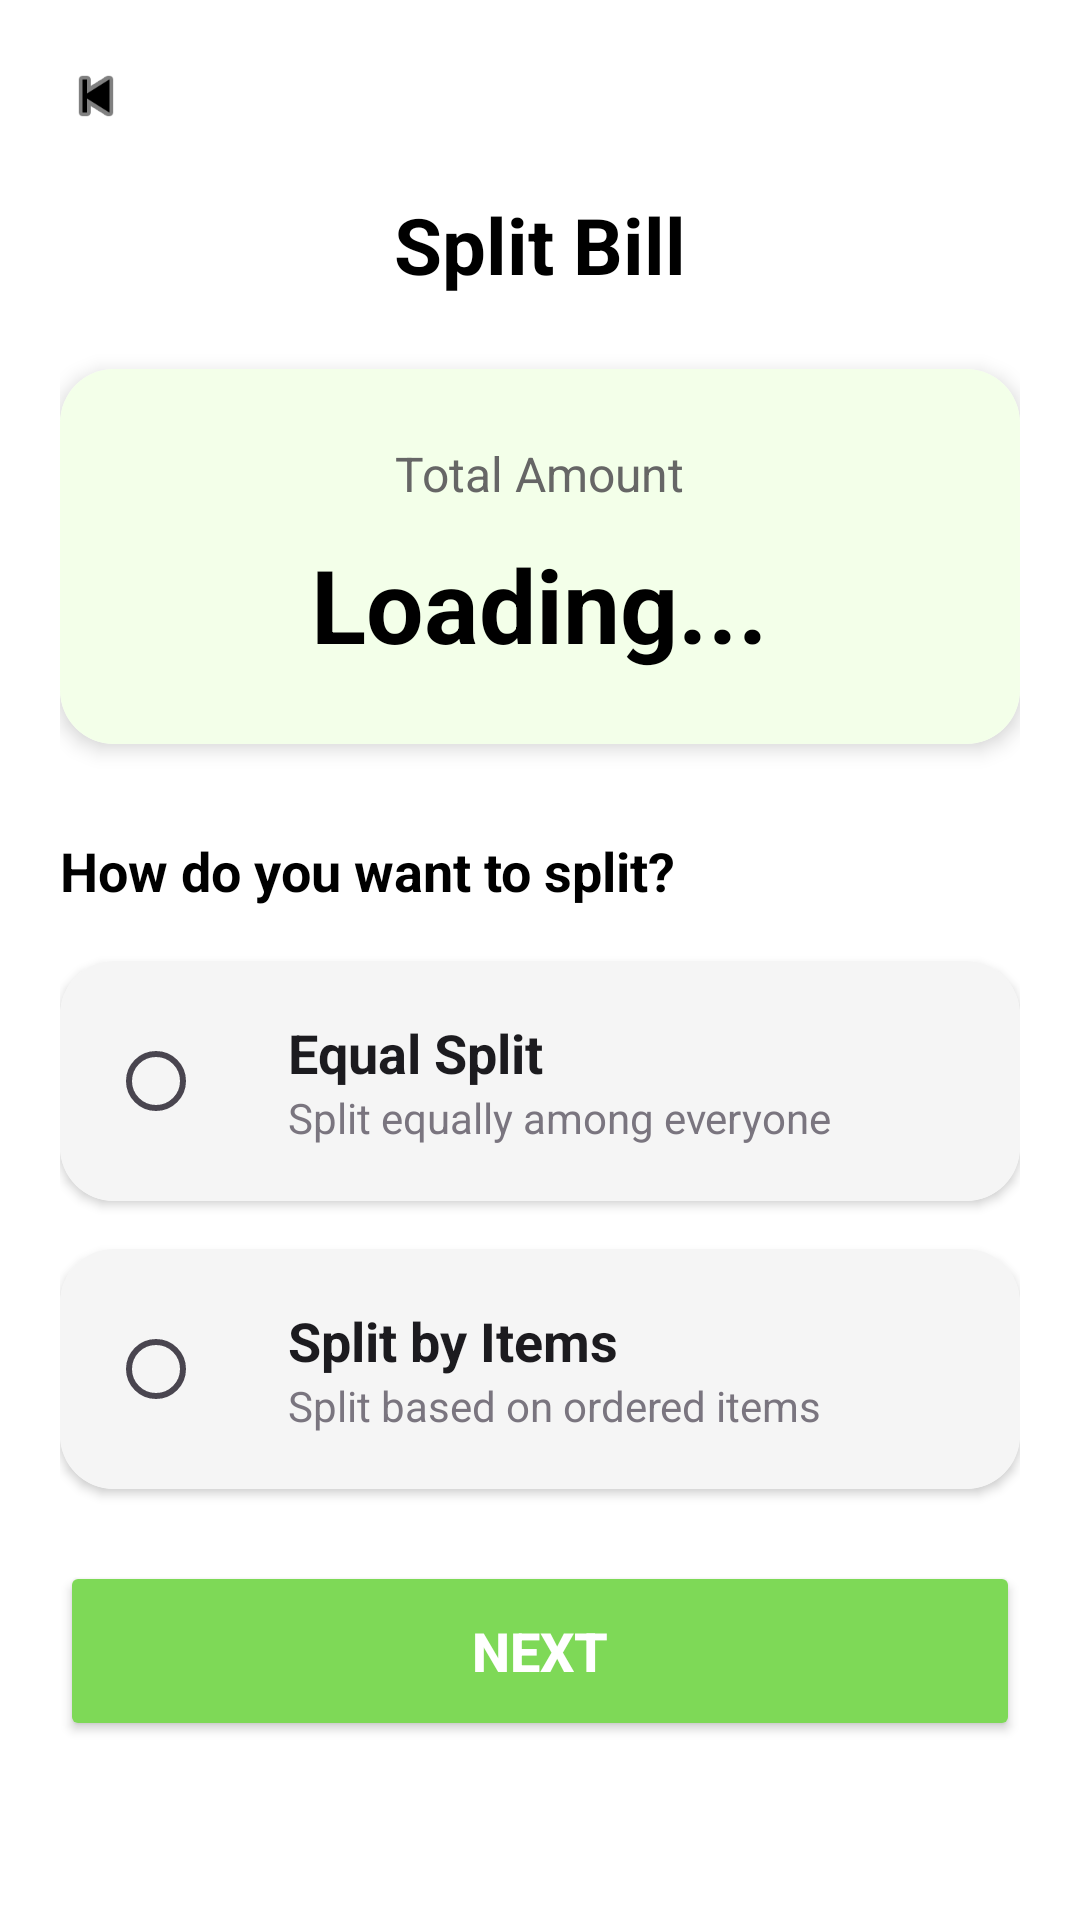

Locate icon controls on the screen. Image size 1080px×1920px, boxes as (x1, y1, x2, y2).
previous: (79, 76, 113, 116)
